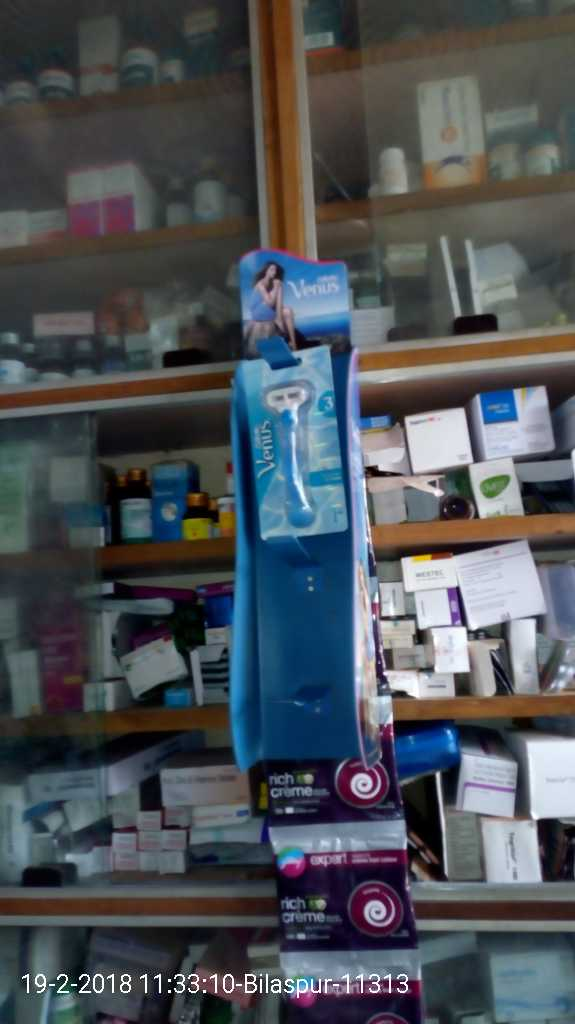venus: (242, 349, 347, 549)
